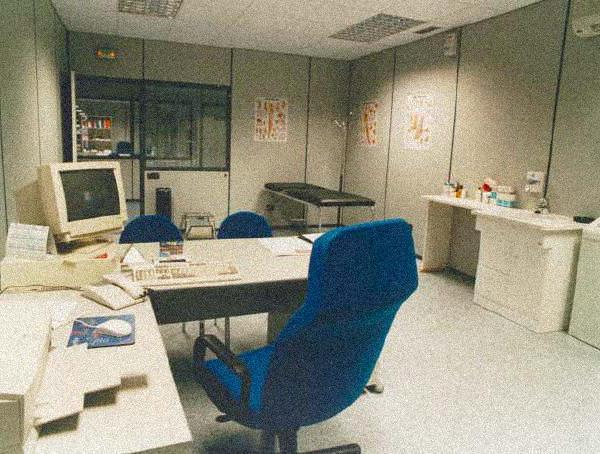Bote de Basura: (149, 188, 176, 223)
